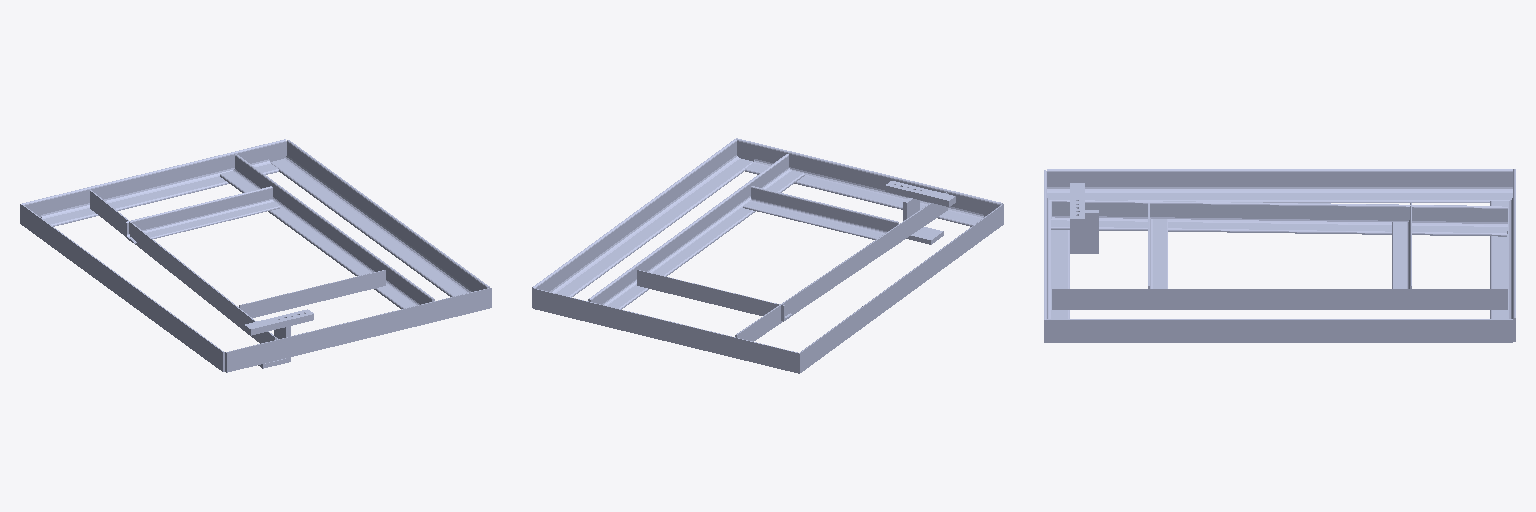
robot.urdf — workpiece_1:
<?xml version="1.0" encoding="utf-8"?>
<!-- This URDF was automatically created by SolidWorks to URDF Exporter! Originally created by [author] ([email redacted]) 
     Commit Version: 1.5.1-0-g916b5db  Build Version: 1.5.7152.31018
     For more information, please see http://wiki.ros.org/sw_urdf_exporter -->
<robot
  name="workpiece_1">
  <link
    name="workpiece_1">
    <inertial>
      <origin
        xyz="0.2985 0.39022 0.014952"
        rpy="0 0 0" />
      <mass
        value="2.094" />
      <inertia
        ixx="0.07031"
        ixy="-0.00054528"
        ixz="-1.8552E-05"
        iyy="0.016248"
        iyz="-8.7838E-07"
        izz="0.085821" />
    </inertial>
    <visual>
      <origin
        xyz="0 0 0"
        rpy="0 0 0" />
      <geometry>
        <mesh
          filename="package://ipa_kifz_data/test_dataset/meshes/workpiece_1.STL" />
      </geometry>
      <material
        name="">
        <color
          rgba="0.79216 0.81961 0.93333 1" />
      </material>
    </visual>
    <collision>
      <origin
        xyz="0 0 0"
        rpy="0 0 0" />
      <geometry>
        <mesh
          filename="package://ipa_kifz_data/test_dataset/meshes/workpiece_1.STL" />
      </geometry>
    </collision>
  </link>

  <!-- Turn of Gravity to fix workpiece at initial position-->
  <gazebo reference="workpiece_1">
    <turnGravityOff>true</turnGravityOff>
    <selfCollide>true</selfCollide>
    <material>Gazebo/Green</material>
  </gazebo>
</robot>

--- Render facts (derived) ---
Views: 3 orthographic renders of the robot side by side, from view 1: azimuth 30°, elevation 25°; view 2: azimuth 150°, elevation 25°; view 3: azimuth 270°, elevation 25°.
Model workpiece_1 with 1 links and 0 joints (none), rooted at workpiece_1, posed every joint at zero.
Visible links, largest first — view 1: workpiece_1; view 2: workpiece_1; view 3: workpiece_1.
Link boxes in pixels (bbox=[...]): workpiece_1: bbox=[20, 139, 491, 372]; workpiece_1: bbox=[532, 138, 1003, 373]; workpiece_1: bbox=[1044, 169, 1515, 342].
Size in the robot's own frame: 0.62 by 0.82 by 0.094 metres.
1 mesh visuals loaded from 1 distinct referenced files (1 binary STL).